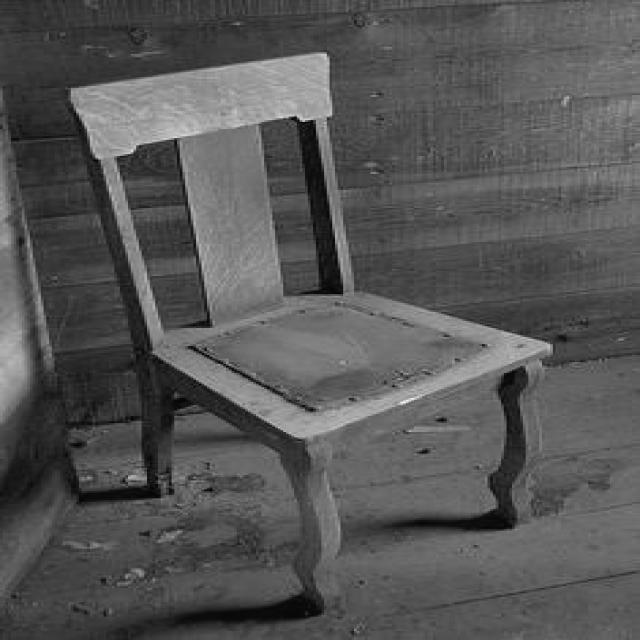chair: (64, 53, 561, 608)
